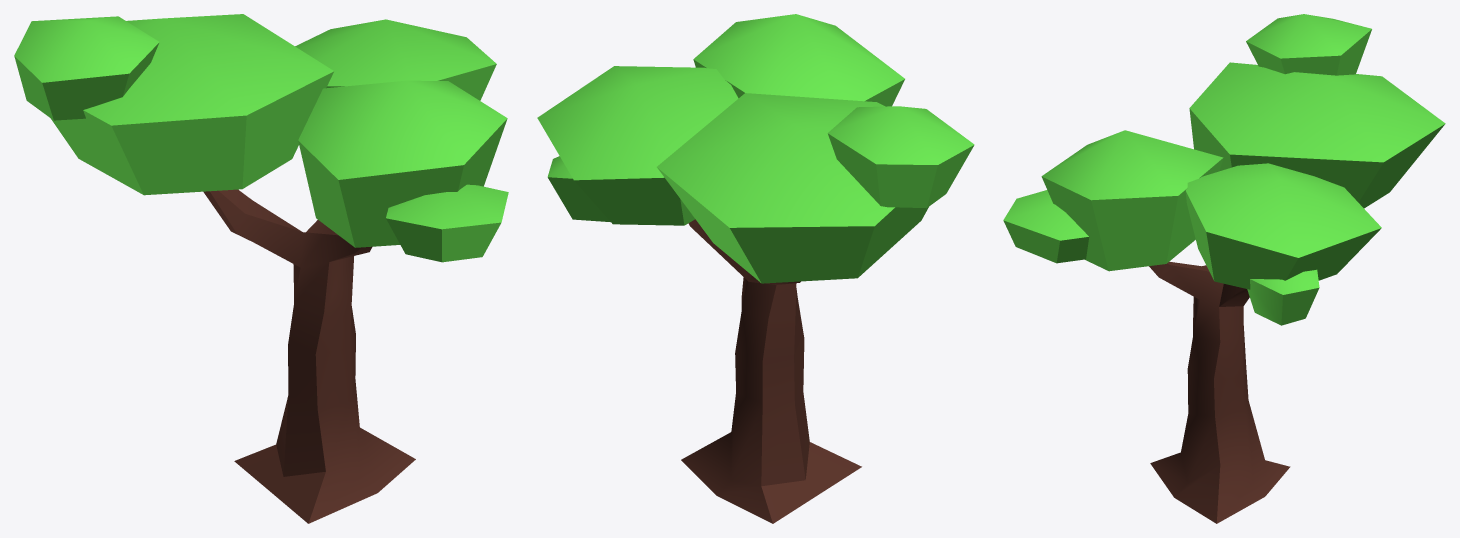
The model's file is Tree_Verdant_2.FBX.
The picture shows the model from 3 angles, left to right: view 1: azimuth 30°, elevation 25°; view 2: azimuth 150°, elevation 25°; view 3: azimuth 270°, elevation 25°; orthographic projection. The views are drawn at different scales.
Visible parts, largest first — view 1: Cylinder002; view 2: Cylinder002; view 3: Cylinder002.
Part boxes in pixels (box(x1,y1,x2,y2)): Cylinder002: box(14, 14, 508, 523); Cylinder002: box(537, 14, 974, 523); Cylinder002: box(1003, 14, 1445, 523).
Bounding box in the file's own units: 726 × 743 × 752.
